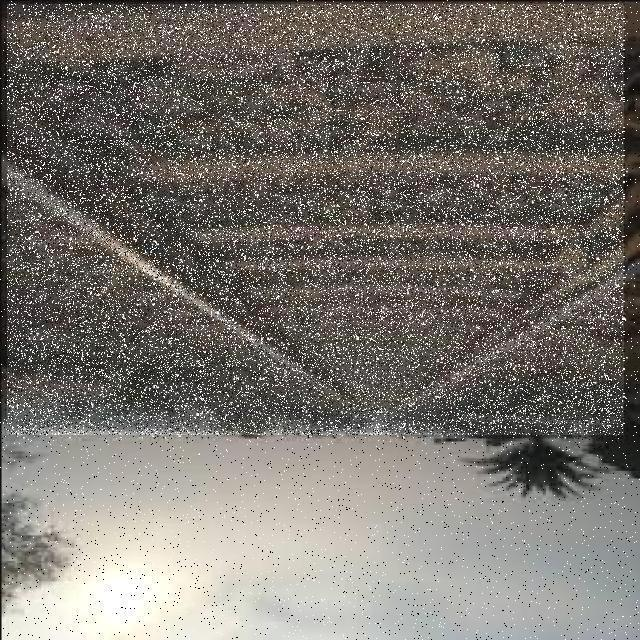rail: (8, 6, 625, 436)
